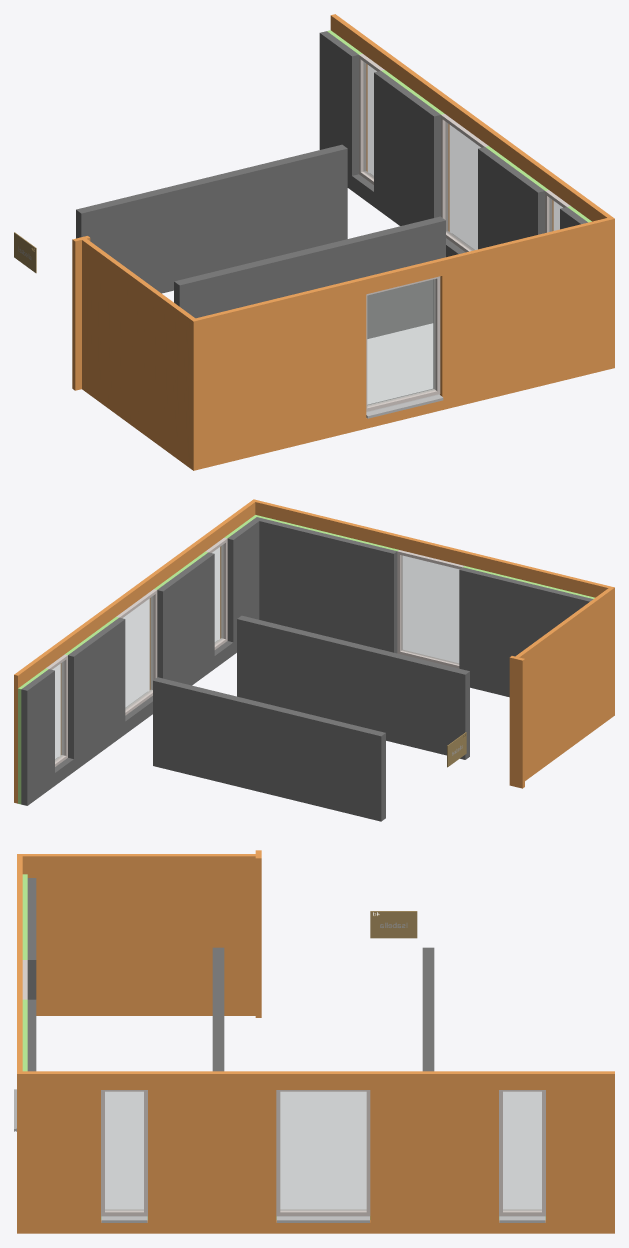
3 views of the same model, one above another, from view 1: azimuth 30°, elevation 25°; view 2: azimuth 150°, elevation 25°; view 3: azimuth 270°, elevation 25° (orthographic). The views are drawn at different scales.
Parts seen in each view (by area): view 1: Walls, System Panel, Rectangular Mullion, NLRS_41_GM_WPB_waterslag RD50-90x160_vebo_ISR; view 2: Walls, System Panel, Rectangular Mullion, Walls.001; view 3: Walls, System Panel, Rectangular Mullion, NLRS_41_GM_WPB_waterslag RD50-90x160_vebo_ISR, Walls.001.
Part boxes in pixels (x1,y1,x2,y2): Walls: [72, 14, 614, 470]; System Panel: [363, 61, 562, 406]; Rectangular Mullion: [359, 54, 570, 411]; NLRS_41_GM_WPB_waterslag RD50-90x160_vebo_ISR: [366, 173, 474, 418]; Walls: [14, 499, 614, 821]; System Panel: [52, 544, 458, 761]; Rectangular Mullion: [46, 537, 464, 766]; Walls.001: [447, 732, 466, 767]; Walls: [17, 850, 614, 1233]; System Panel: [105, 1092, 541, 1210]; Rectangular Mullion: [22, 960, 545, 1215]; NLRS_41_GM_WPB_waterslag RD50-90x160_vebo_ISR: [14, 1089, 545, 1222]; Walls.001: [370, 911, 417, 938].
Bounding box in the file's own units: 9.05 × 3 × 10.23.
